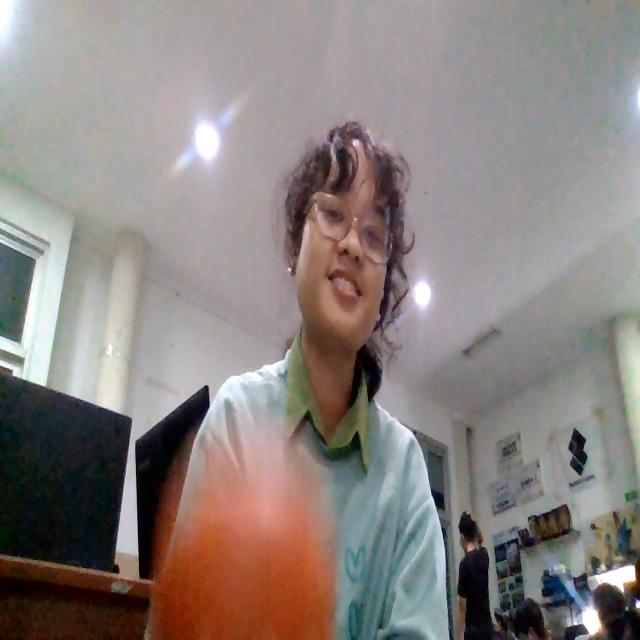ball: (171, 490, 323, 640)
